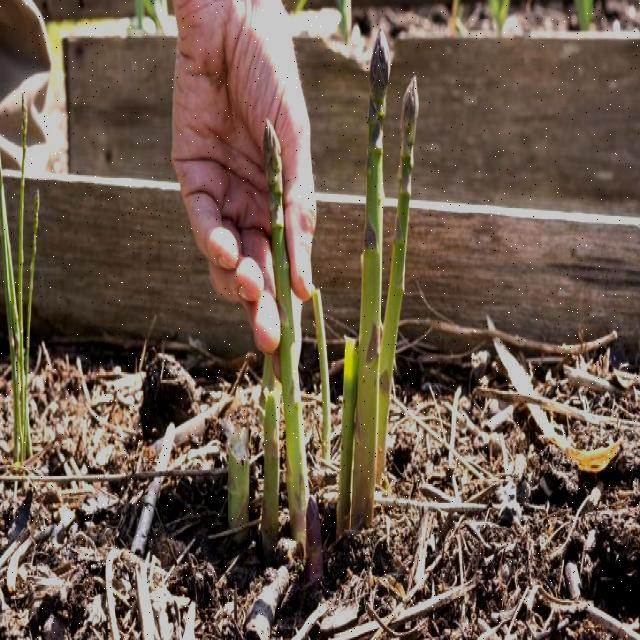aspargus: (343, 47, 388, 532), (265, 124, 311, 543)
